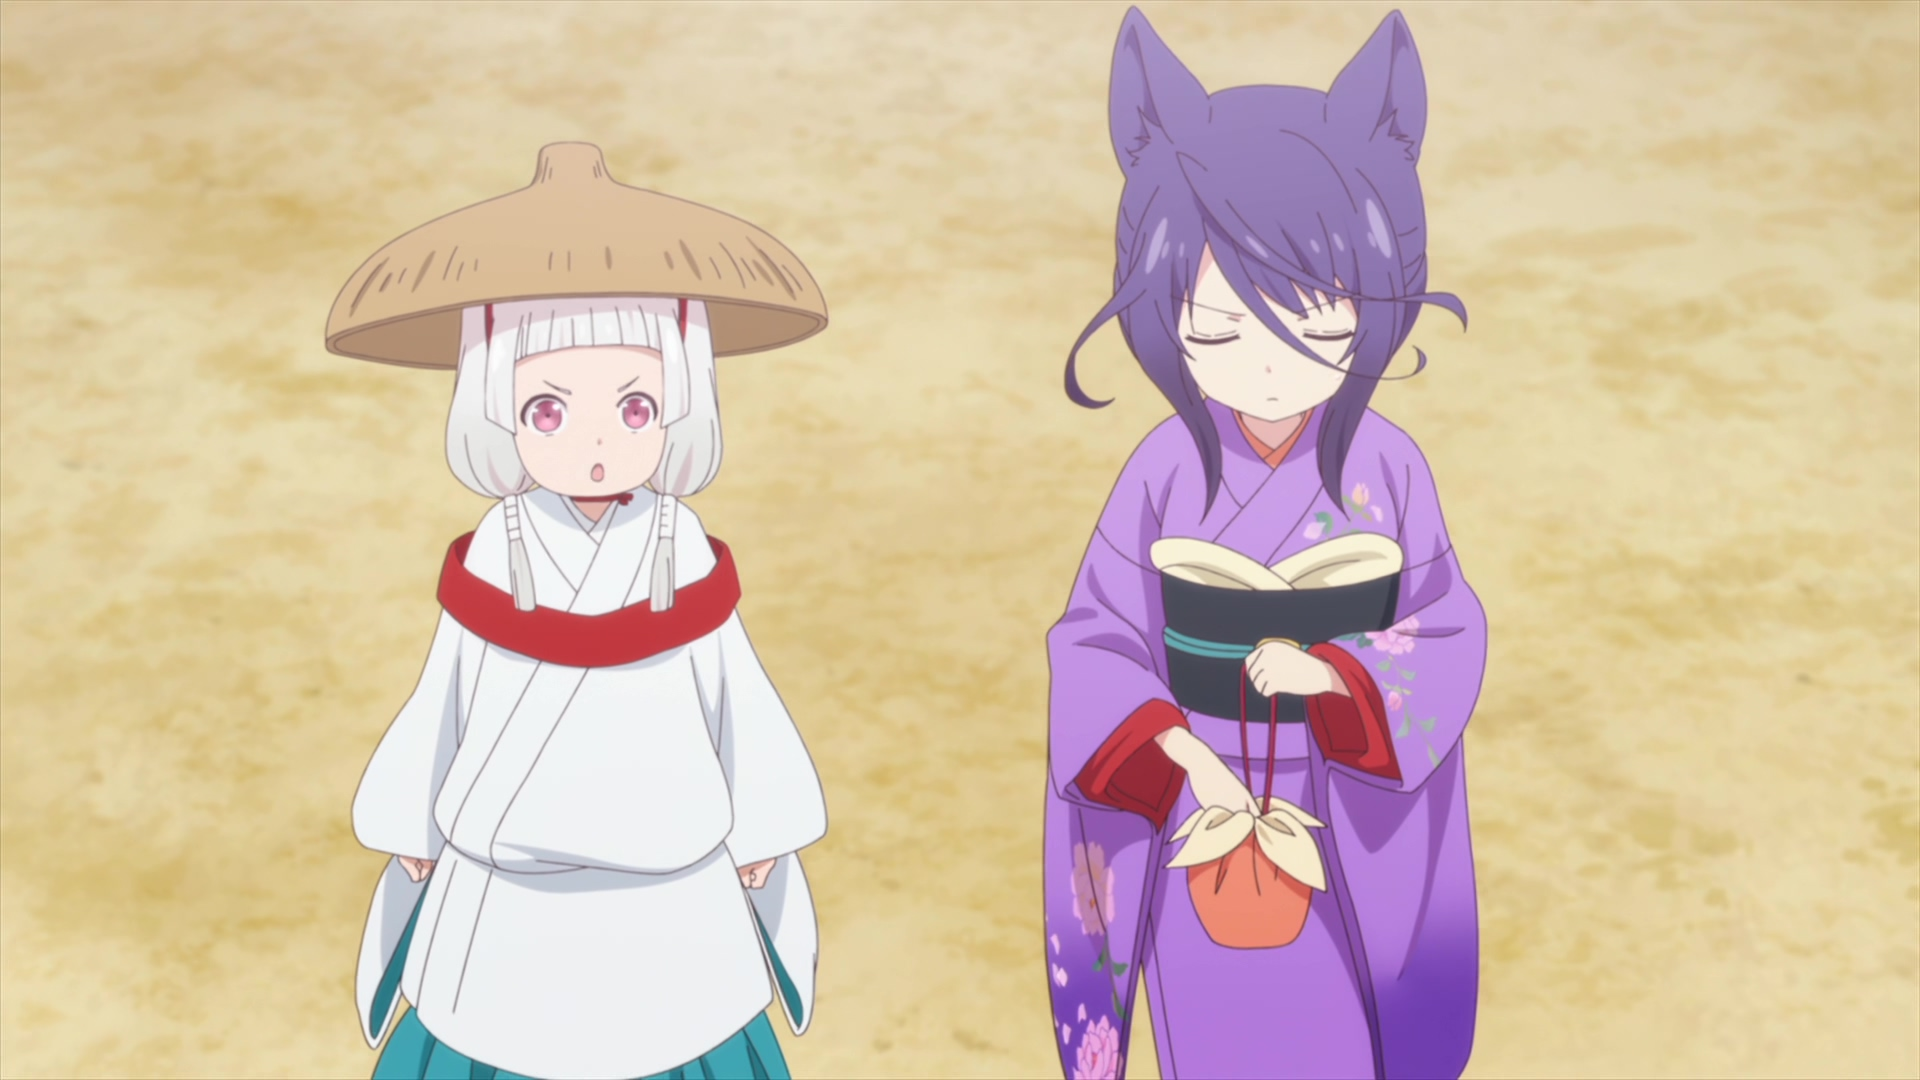其他: (323, 142, 829, 1080)
皋: (1040, 4, 1487, 1080)
